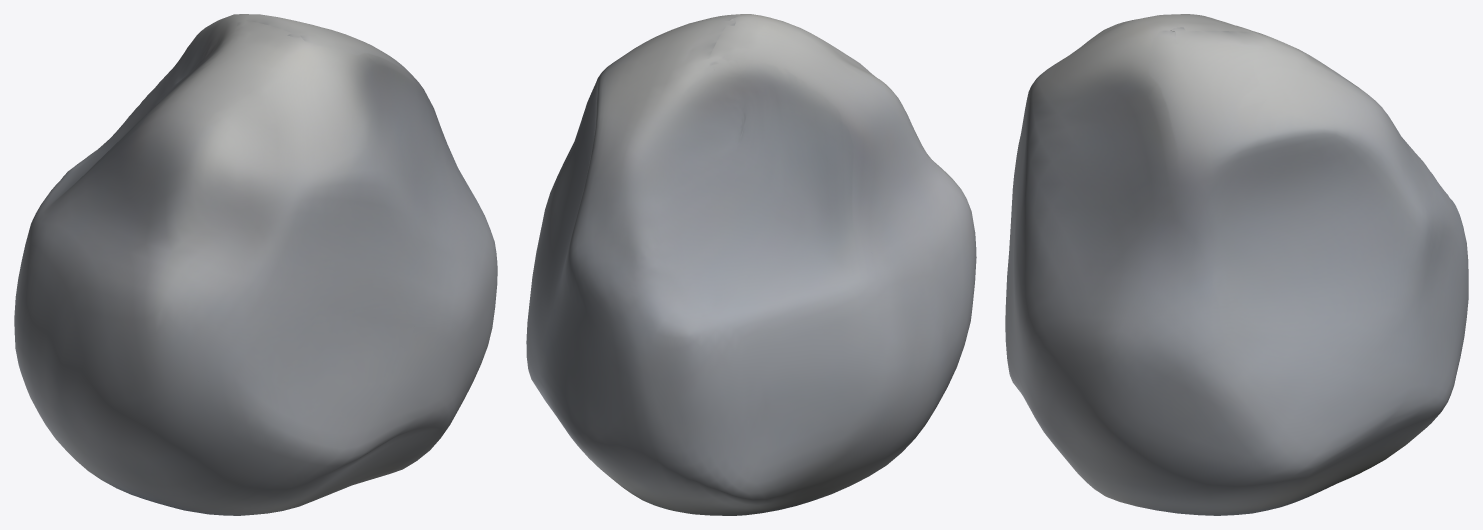
The model's file is stone.fbx.
3 views of the same model, side by side, from view 1: azimuth 30°, elevation 25°; view 2: azimuth 150°, elevation 25°; view 3: azimuth 270°, elevation 25° (orthographic). The views are drawn at different scales.
Visible parts, largest first — view 1: mesh_rep_0_ori_repair_quad; view 2: mesh_rep_0_ori_repair_quad; view 3: mesh_rep_0_ori_repair_quad.
Part boxes in pixels (x1,y1,x2,y2): mesh_rep_0_ori_repair_quad: (14,14,497,515); mesh_rep_0_ori_repair_quad: (526,14,976,515); mesh_rep_0_ori_repair_quad: (1005,14,1468,515).
Bounding box in the file's own units: 100 × 101 × 95.82.
Materials: 1 (1 with a texture image).
